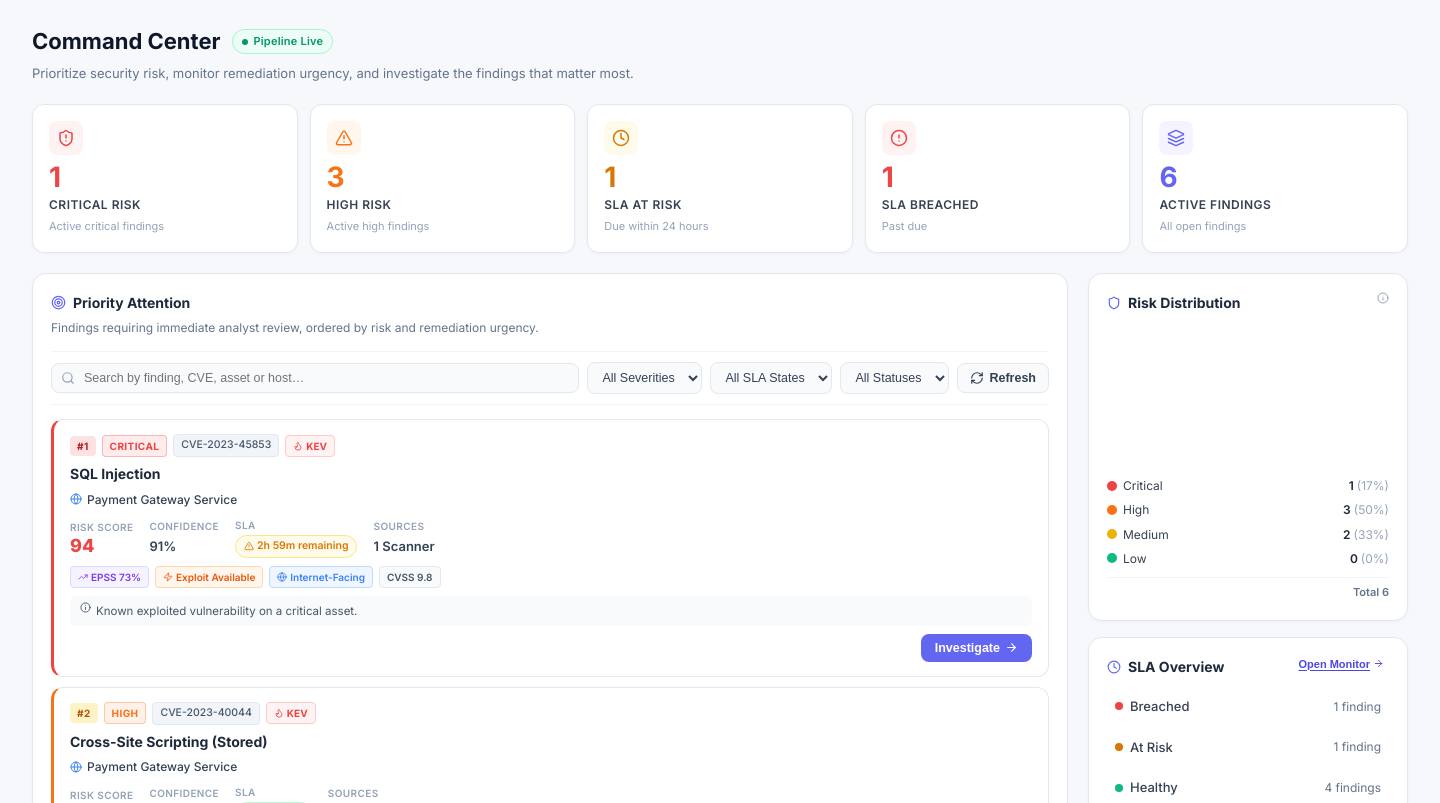
Test case: Command Center — Search & Filters › Reset Filters restores all findings
expect the text "SQL Injection" is shown: met, box [70,465,160,482]
Type "zzznotexisting" into the field named "Search findings". click: point(315, 378)
box: [51,363,580,393]
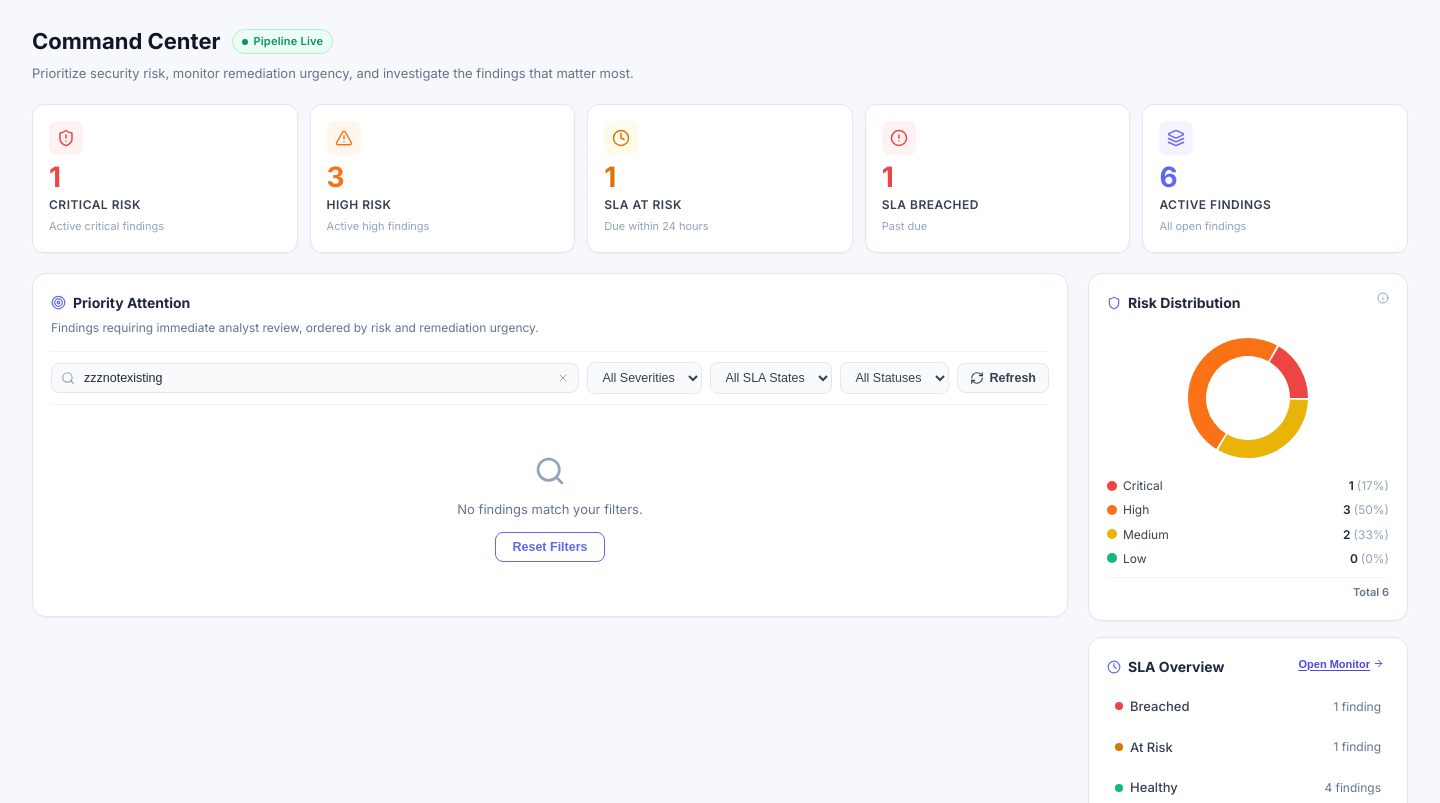
expect the text "No findings match your filters." is shown: met, box [457,499,643,520]
Click the button "Reset Filters". click: point(550, 547)
box: [496,532,604,562]
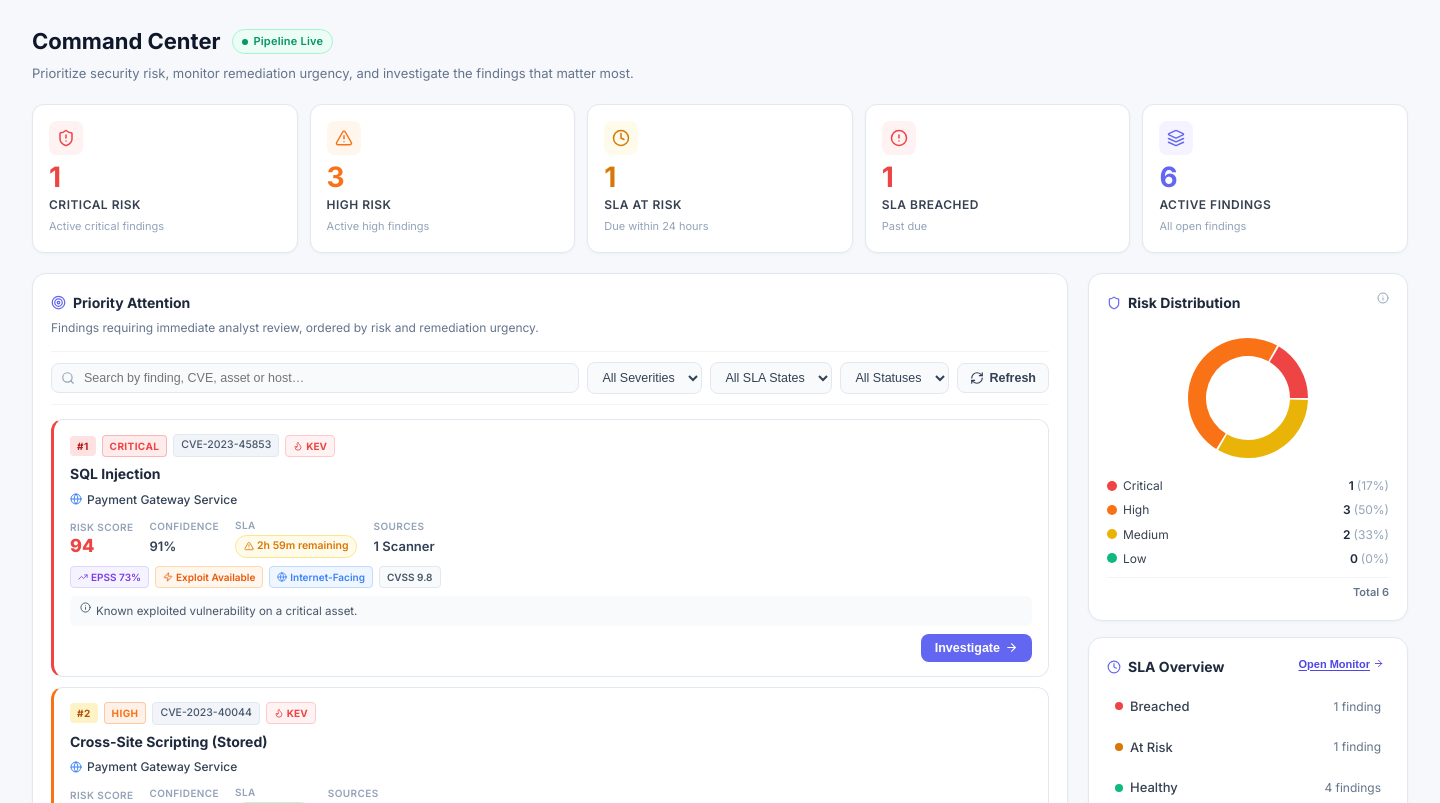
expect the text "SQL Injection" is shown: met, box [70,465,160,482]
expect the text "Cross-Site Scripting (Stored)" is shown: met, box [70,733,268,750]
